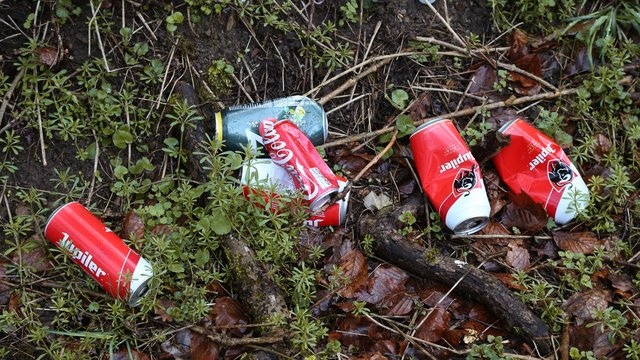can: (34, 193, 166, 306), (491, 114, 601, 246), (398, 110, 498, 246), (211, 96, 330, 159)
